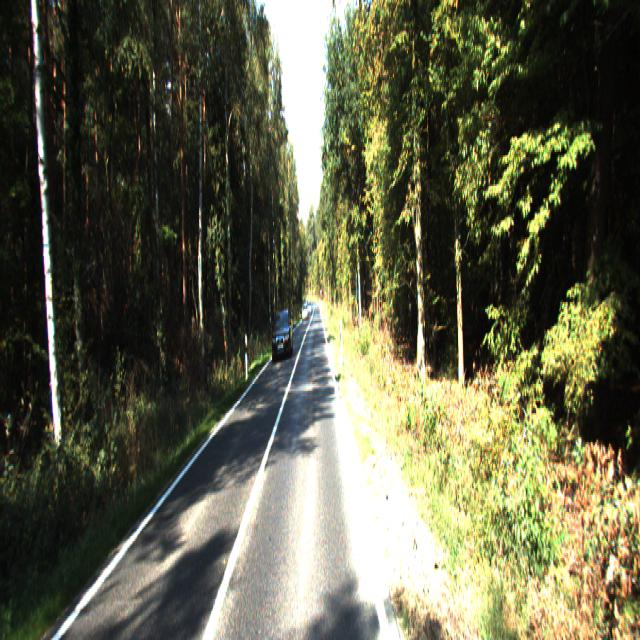Car: (272, 310, 292, 362)
